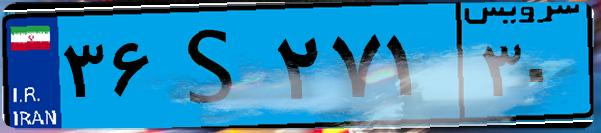0: (525, 38, 570, 115)
1: (385, 28, 445, 110)
2: (270, 28, 330, 110)
3: (57, 26, 110, 100), (475, 38, 525, 113)
6: (110, 28, 158, 98)
7: (330, 28, 385, 110)
S: (158, 12, 270, 120)
